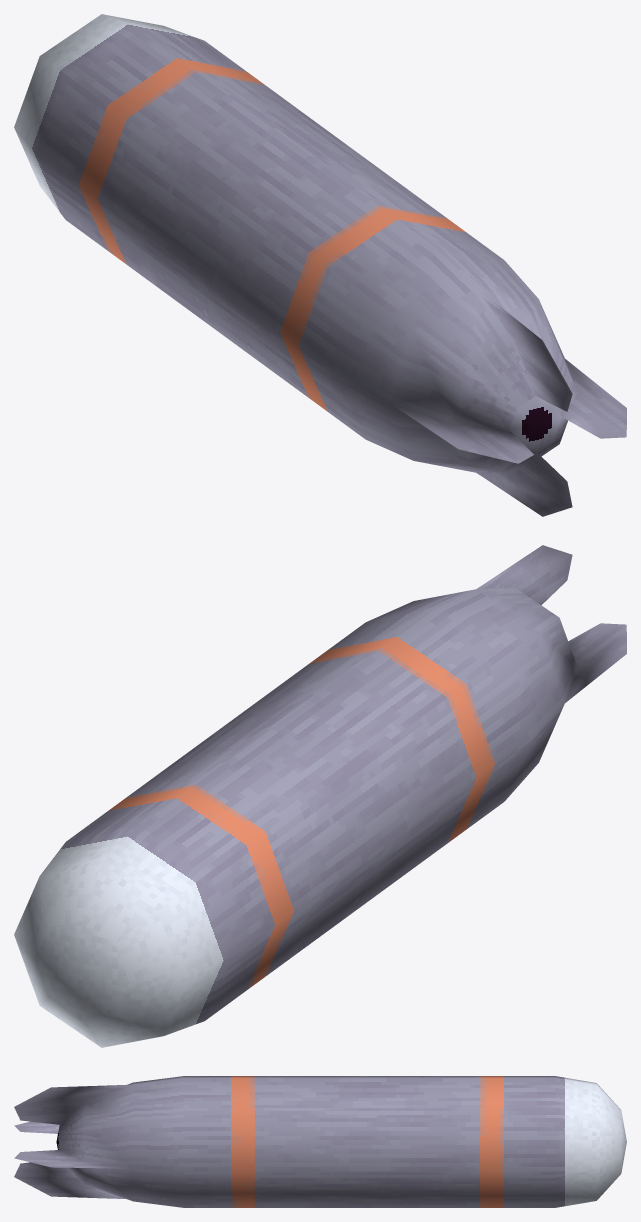
Rendered from torp.glb.
The picture shows the model from 3 angles, top to bottom: view 1: azimuth 30°, elevation 25°; view 2: azimuth 150°, elevation 25°; view 3: azimuth 270°, elevation 25°; orthographic projection. The views are drawn at different scales.
Parts seen in each view (by area): view 1: Cylinder; view 2: Cylinder; view 3: Cylinder.
Part boxes in pixels (x1,y1,x2,y2): Cylinder: (14, 14, 626, 516); Cylinder: (14, 545, 626, 1047); Cylinder: (14, 1076, 626, 1207).
Bounding box in the file's own units: 0.5 × 0.5 × 2.18.
Materials: 1 (1 with a texture image).
